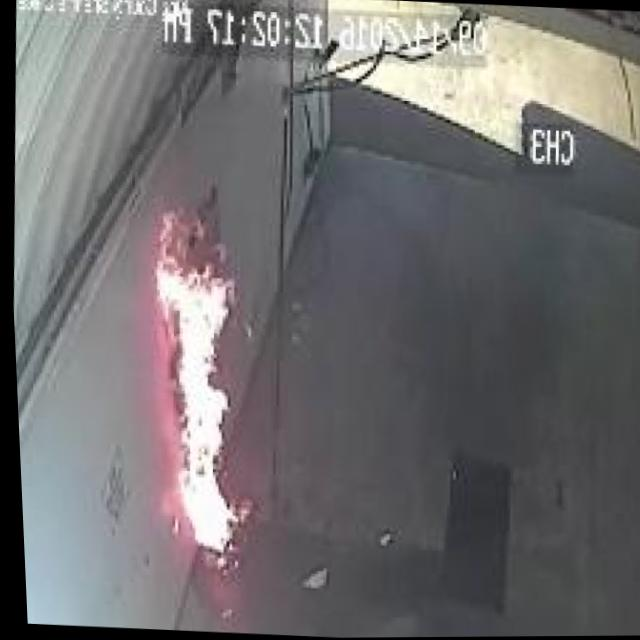fire: (125, 198, 266, 572)
